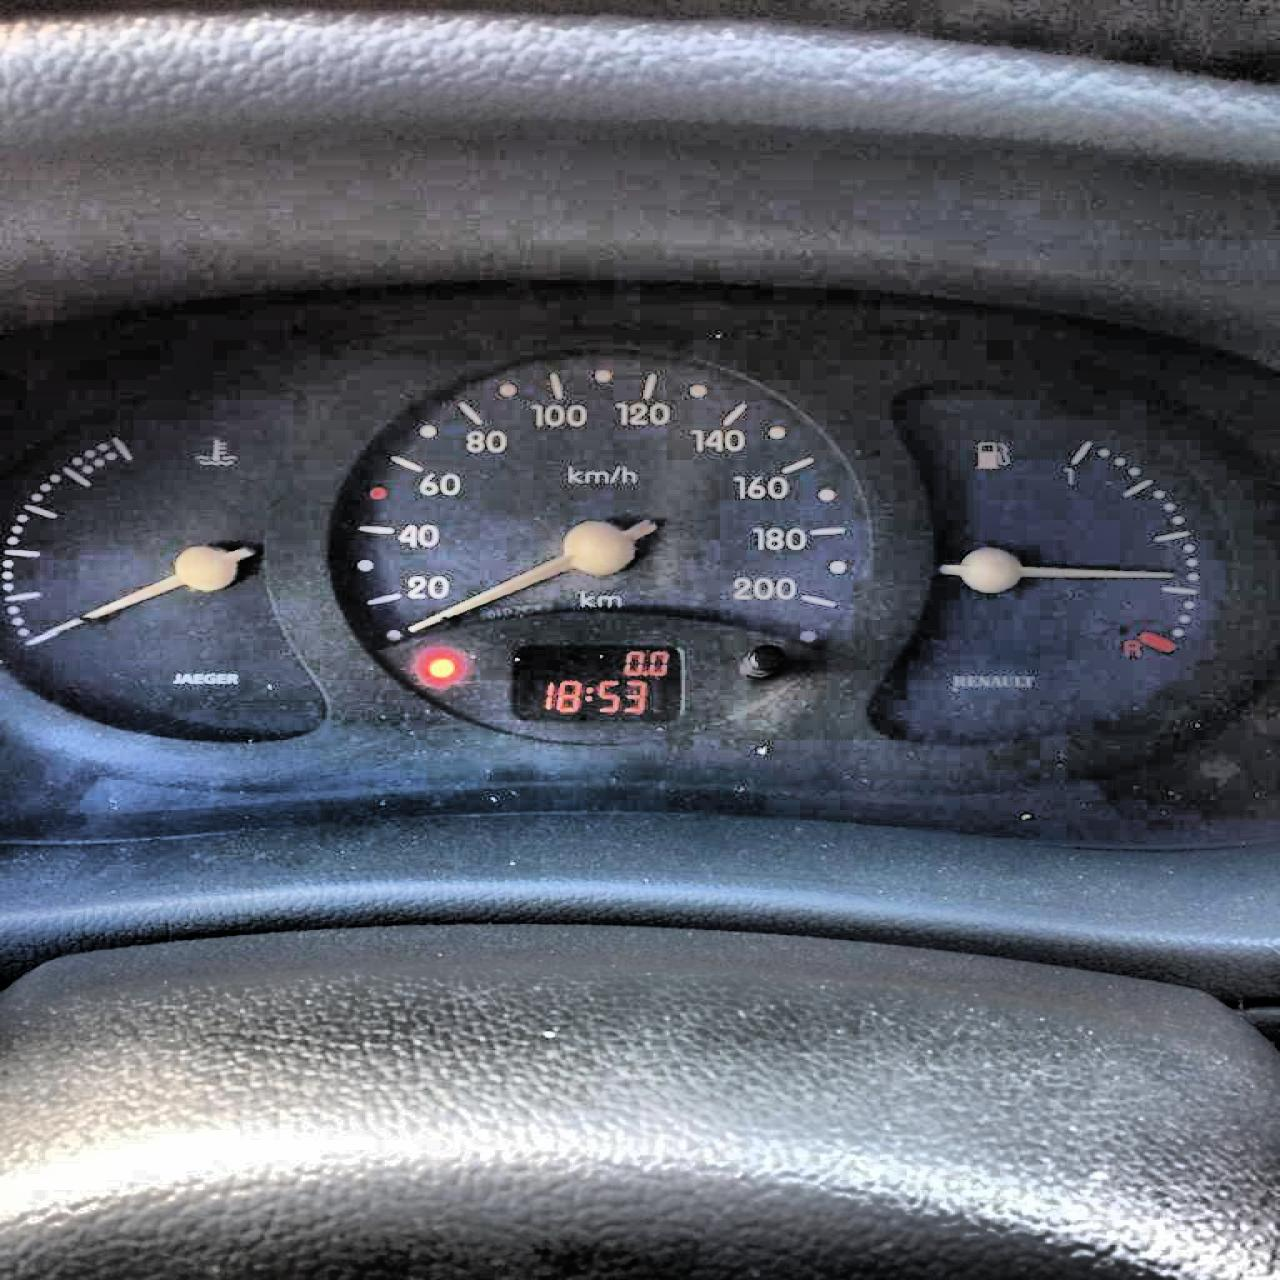-: (640, 670, 647, 675)
0: (624, 651, 644, 675), (648, 651, 667, 675)
1: (544, 680, 553, 710)
3: (621, 680, 645, 712)
5: (597, 680, 618, 712)
8: (554, 680, 580, 712)
X: (584, 687, 593, 701)
odometer: (510, 642, 685, 722)
